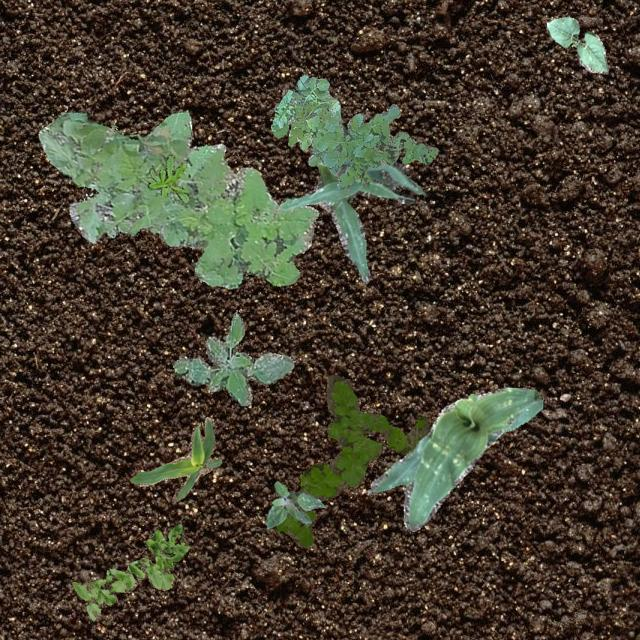crop: (367, 386, 541, 530), (278, 125, 422, 282), (130, 416, 220, 500), (546, 16, 608, 72)
weed: (38, 110, 316, 288), (274, 374, 429, 546), (269, 72, 436, 196), (70, 522, 188, 620), (172, 310, 294, 404), (266, 480, 324, 528), (146, 154, 188, 202)
